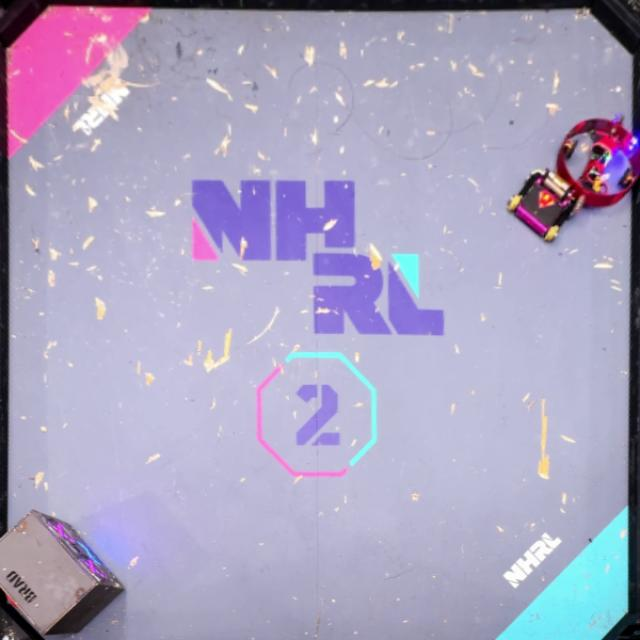housebot: (0, 509, 125, 636)
robot: (555, 111, 640, 209), (506, 167, 576, 244)
